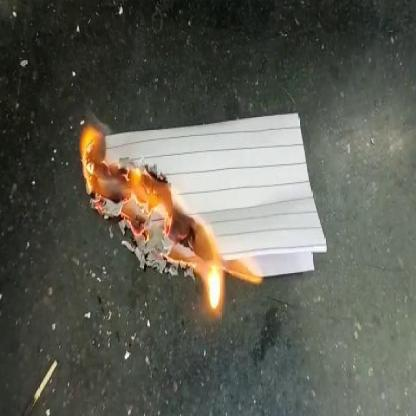Fire: (79, 120, 230, 315)
